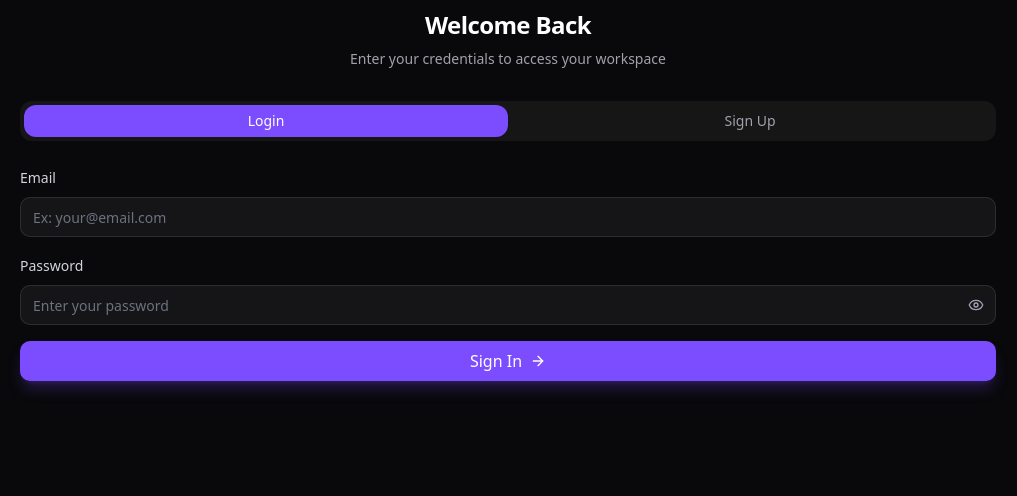
LoginForm › Rendering › signup form has email, password, and confirm password fields
The width and height of the screenshot is (1017, 496).
Click the tab "Sign Up": (750, 121) [508, 105, 992, 137]
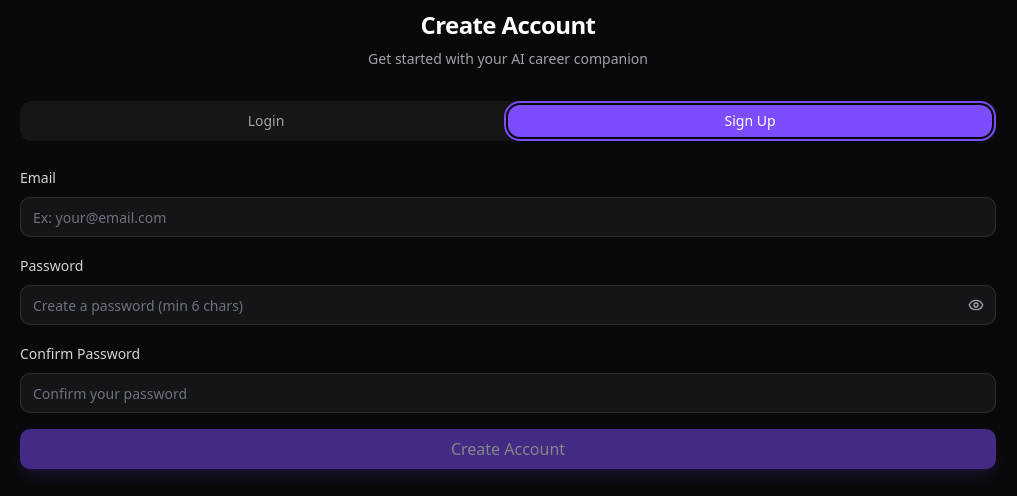
Expected: the field with placeholder "Ex: your@email.com" is shown, [20, 197, 996, 237]
Expected: the password field with placeholder "Create a password (min 6 chars)" is shown, [20, 285, 996, 325]
Expected: the password field with placeholder "Confirm your password" is shown, [20, 373, 996, 413]
